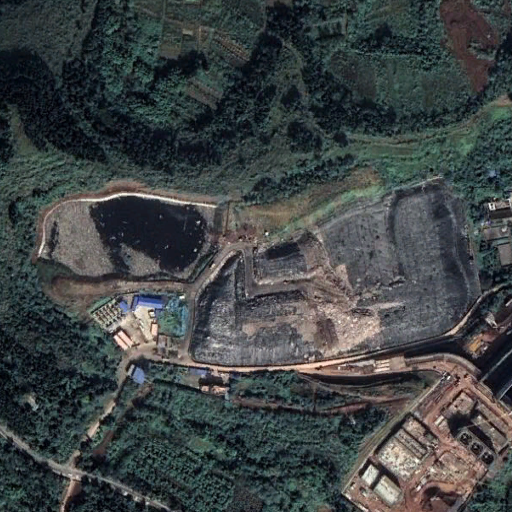lf: (186, 180, 483, 372)
